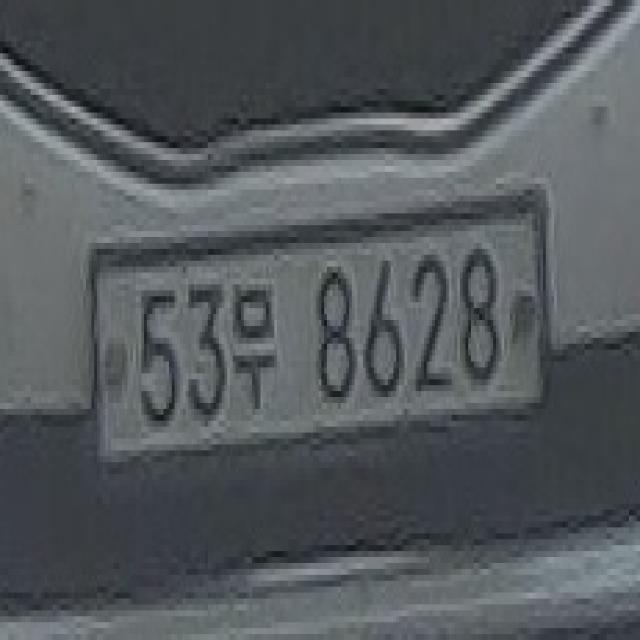2: (415, 231, 460, 403)
3: (183, 261, 233, 438)
5: (130, 278, 183, 432)
6: (366, 249, 410, 427)
8: (457, 225, 504, 397), (310, 255, 358, 421)
license_plate: (83, 190, 551, 474)
mu: (228, 278, 286, 415)
